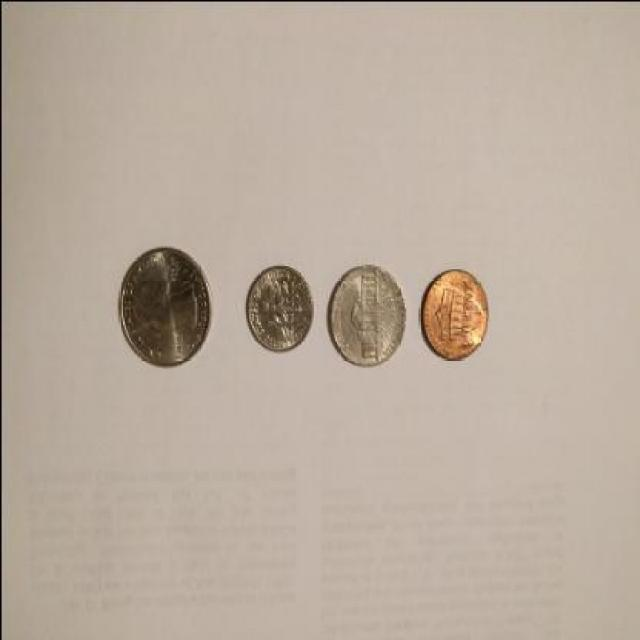Dime: (243, 260, 312, 352)
Nickel: (326, 260, 408, 371)
Penny: (418, 264, 489, 360)
Quarter: (116, 246, 212, 371)
